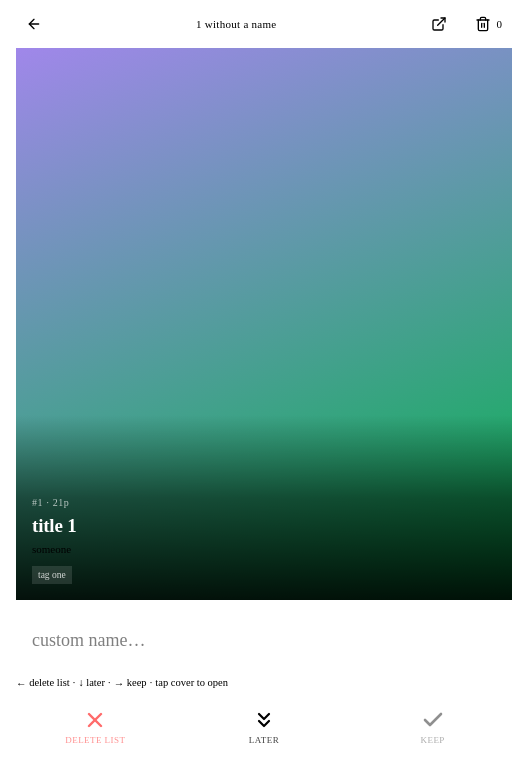
Test: SwipeDeck › will not postpone the last title
Click the button "later".
click(264, 728)  # box 185,700 -> 343,756
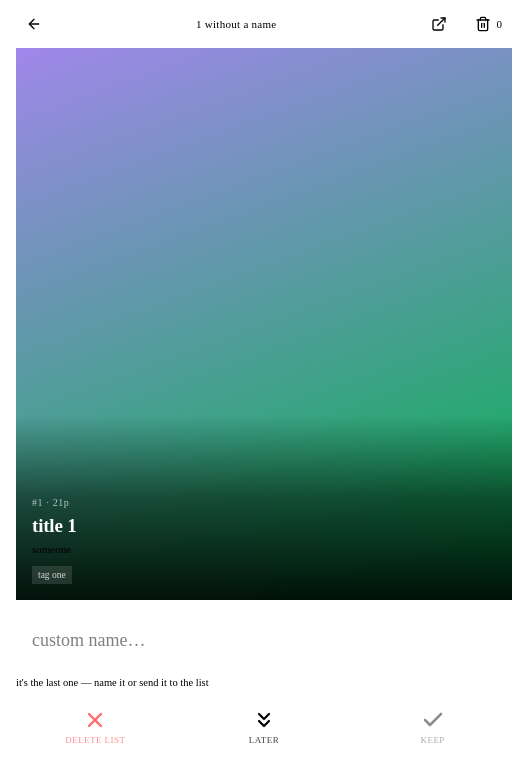
Now the text "it's the last one — name it or send it to the list" is shown, box 16,677 -> 209,688
